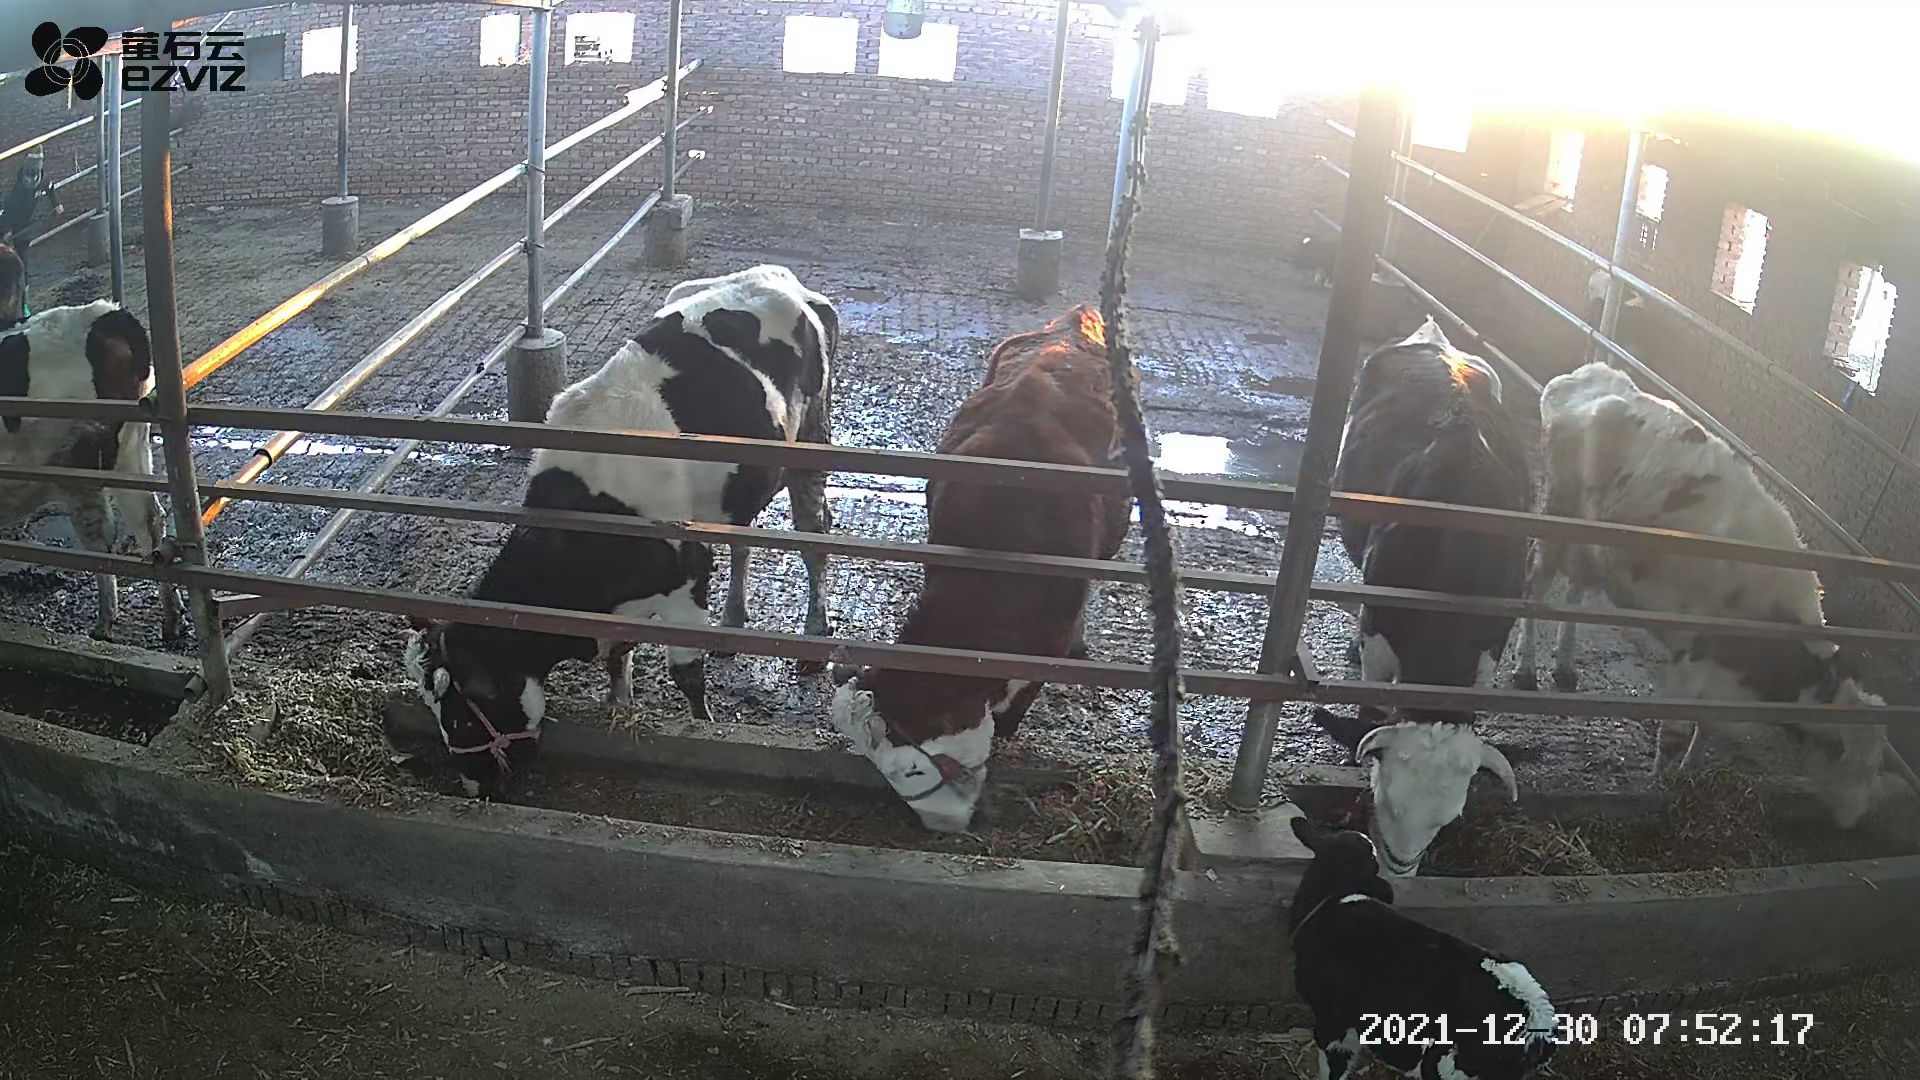cow: (401, 262, 837, 798), (1513, 360, 1888, 832), (833, 301, 1142, 833), (1309, 310, 1534, 878)
